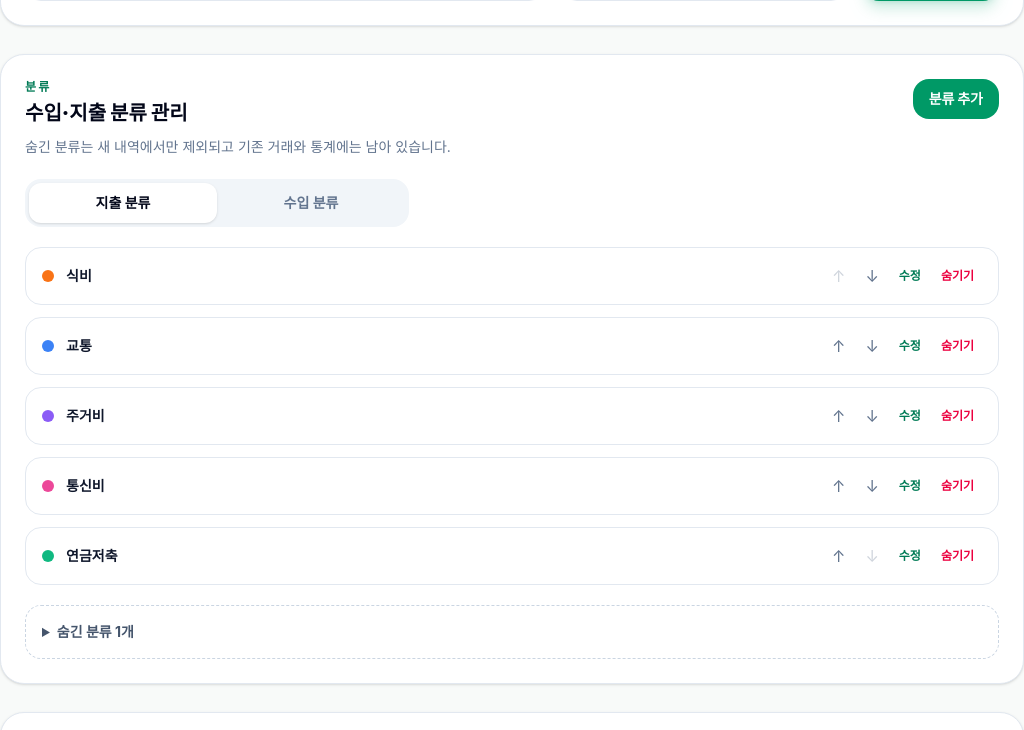
Test: SettingsScreen › shows a retry message when an immediate category action is rejected
The width and height of the screenshot is (1024, 730).
(page scrolled)
Click the button with aria-label "교통 숨기기". click: point(957, 346)
box: [933,334,982,358]
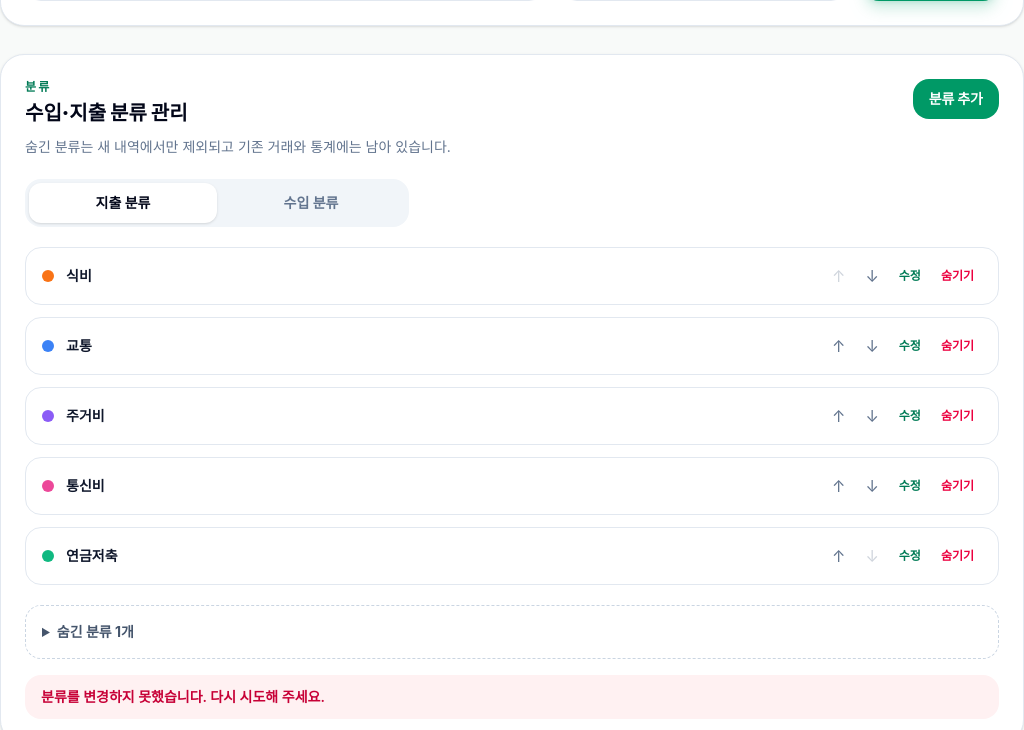
Now the message reads "분류를 변경하지 못했습니다. 다시 시도해 주세요.", box [41,688,325,705]
